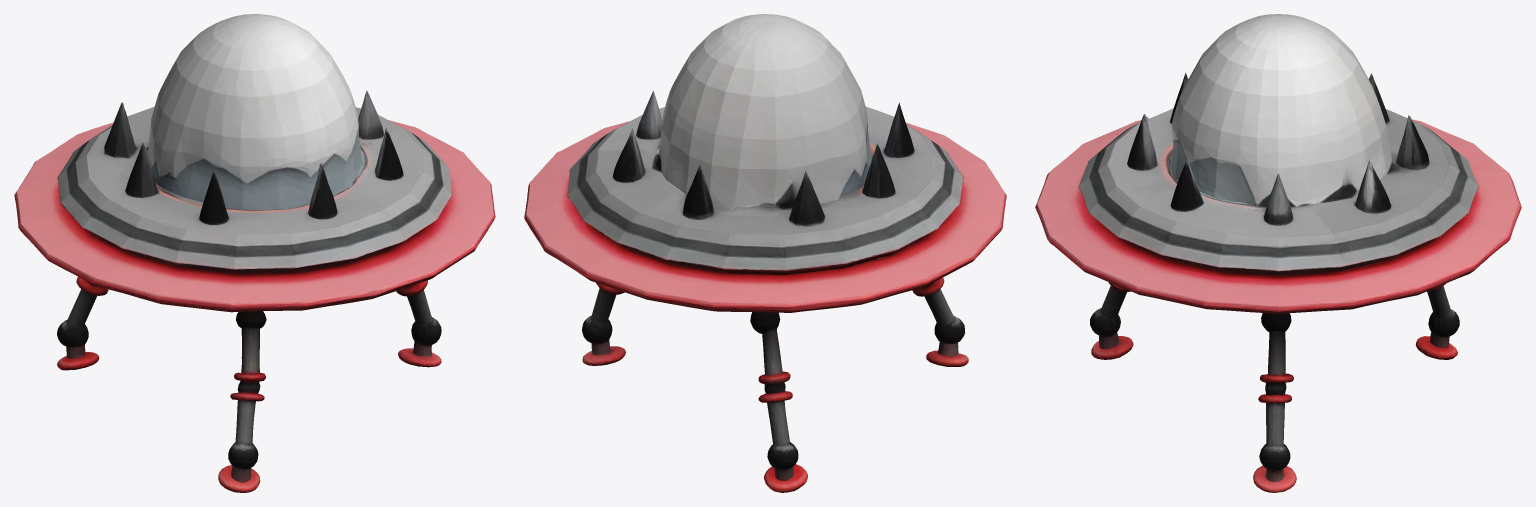
File: partflow_t02.glb
3 renders of one model, left to right at view 1: azimuth 30°, elevation 25°; view 2: azimuth 150°, elevation 25°; view 3: azimuth 270°, elevation 25°, orthographic.
Parts seen in each view (by area): view 1: geometry_0; view 2: geometry_0; view 3: geometry_0.
Boxes of the visible parts, x1,y1,x2,y2 form: geometry_0: [14, 14, 495, 492]; geometry_0: [524, 14, 1006, 492]; geometry_0: [1035, 14, 1521, 492].
Bounding box in the file's own units: 2 × 1.74 × 2.
1 material, 1 textured.
